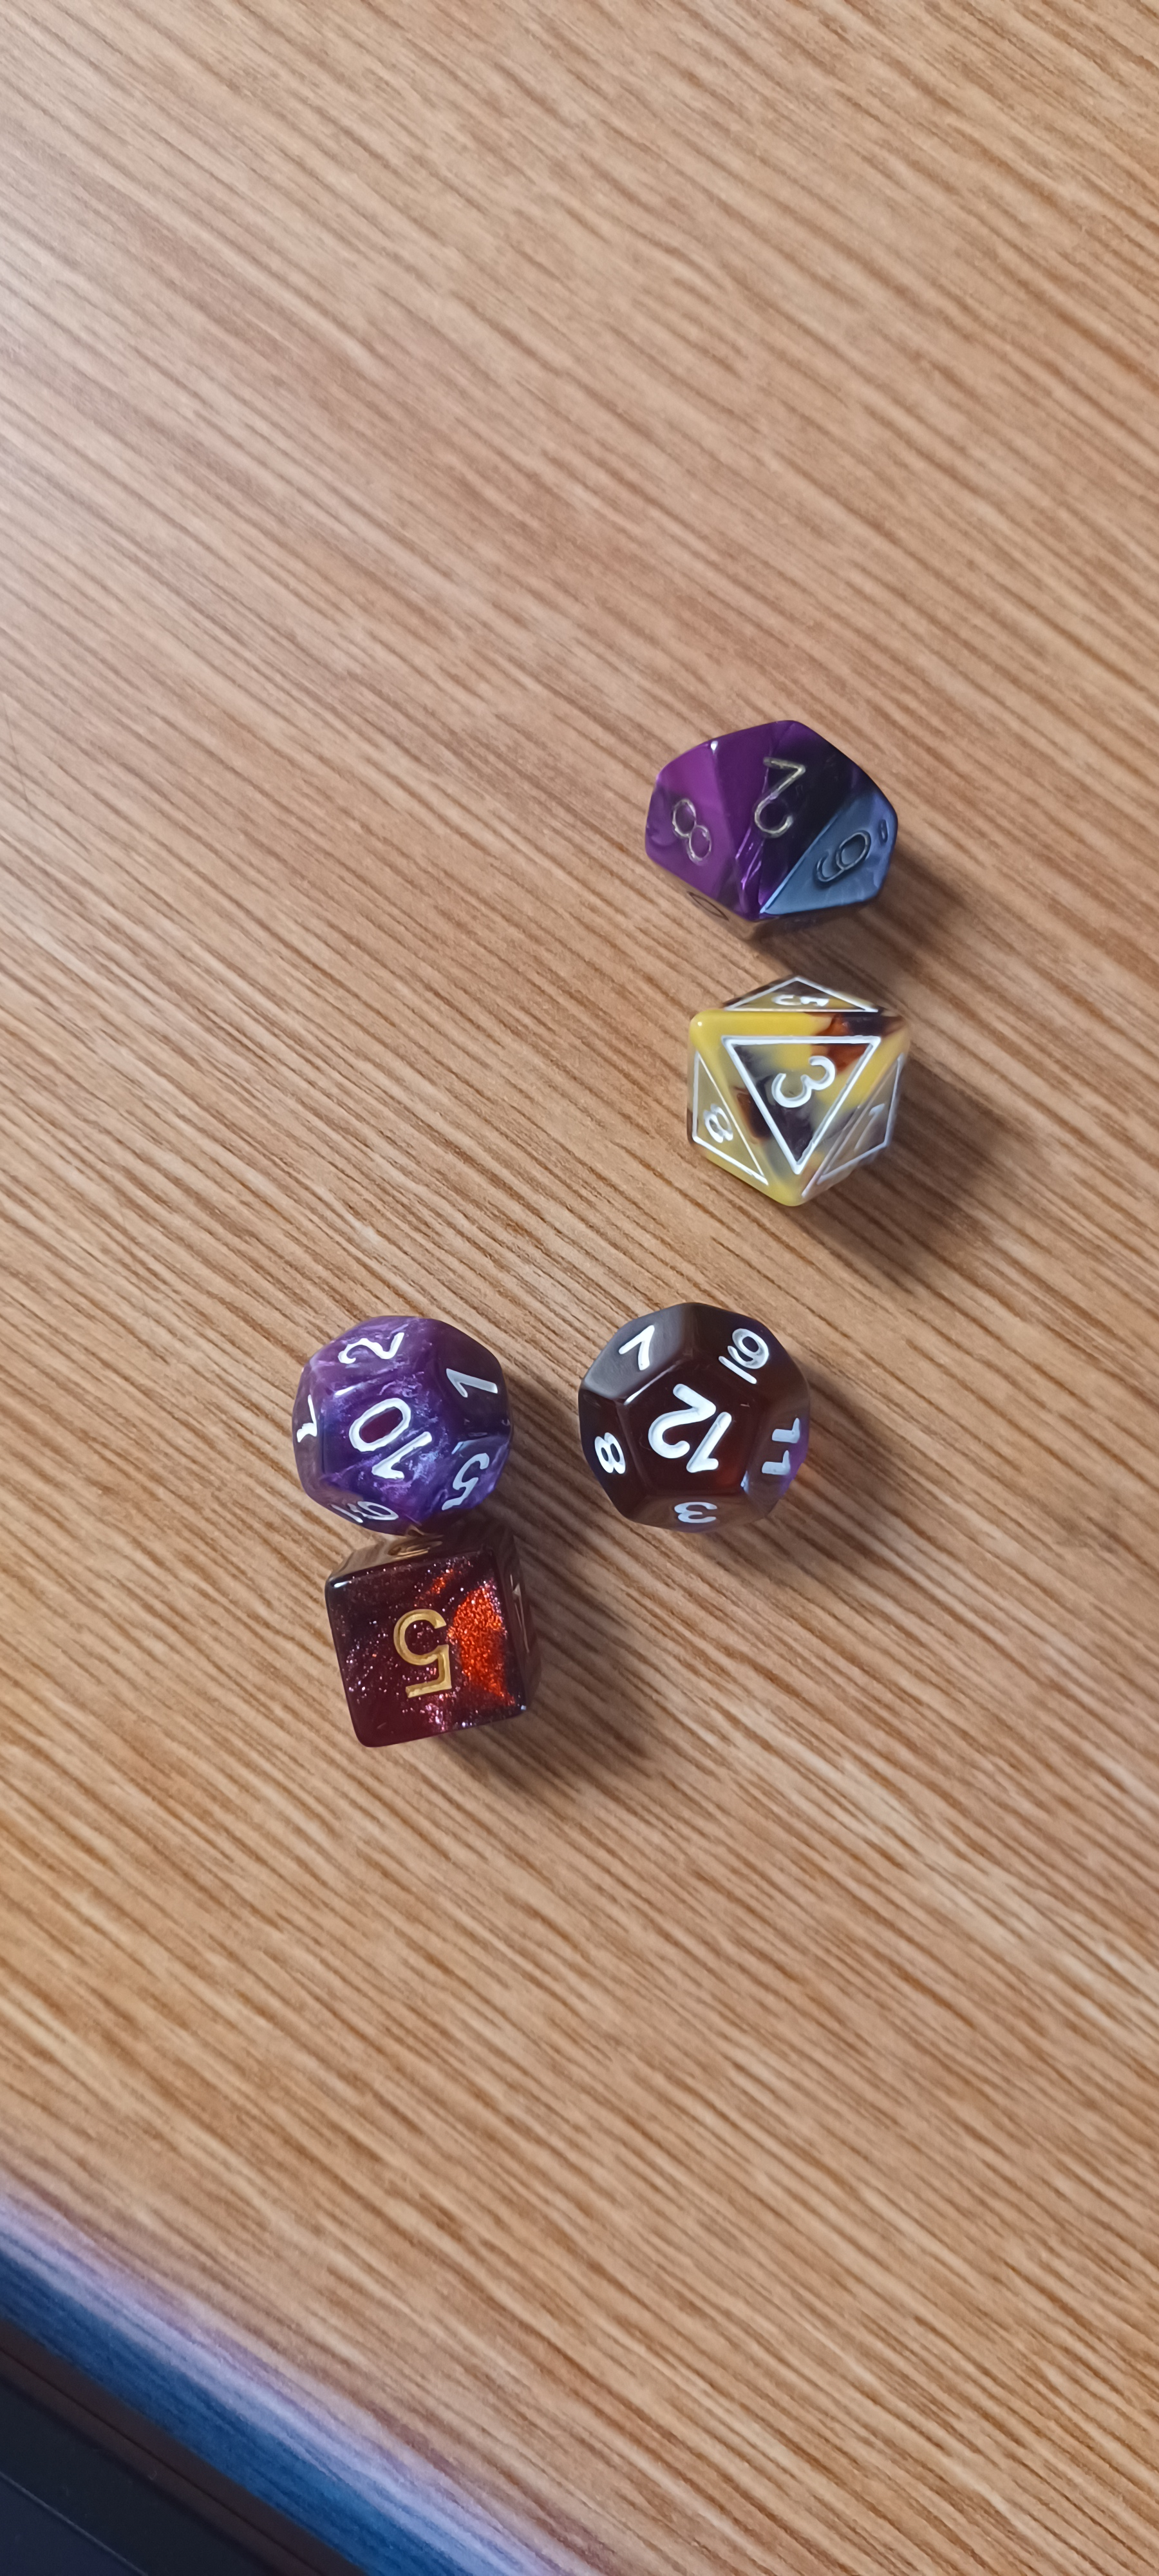five: (277, 1515, 598, 1774)
ten: (268, 1308, 547, 1551)
three: (670, 966, 939, 1209)
twelve: (555, 1262, 852, 1567)
two: (591, 680, 936, 958)
